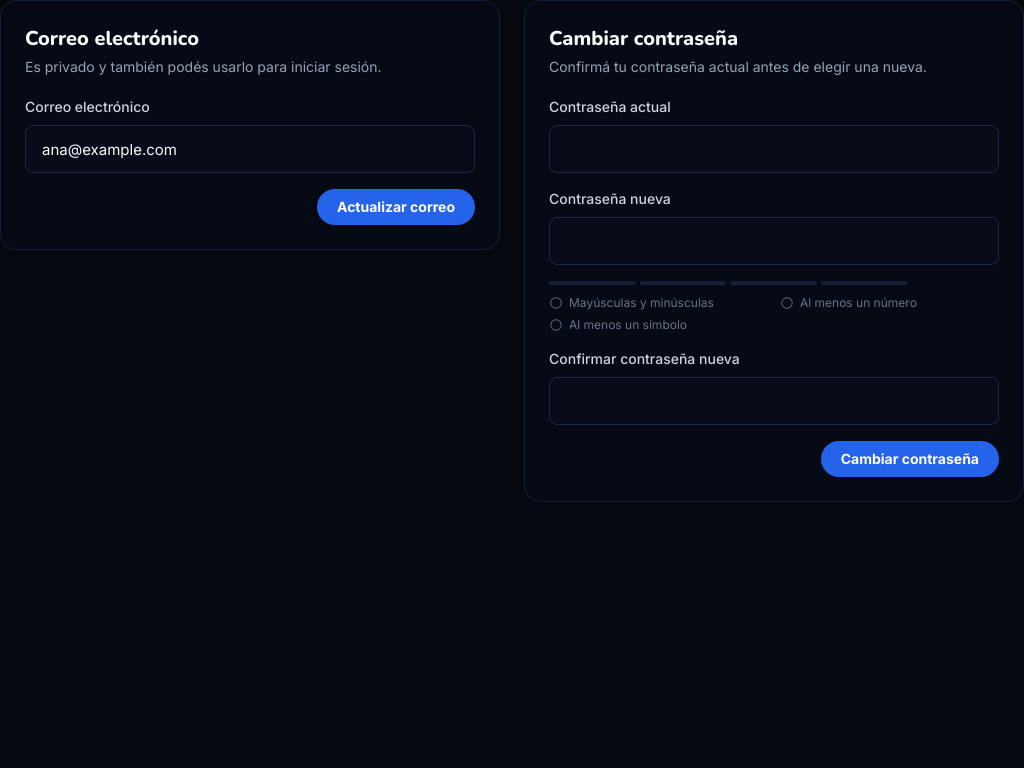
Test: AccountSettings › valida la confirmación antes de cambiar la contraseña
This screenshot has width=1024, height=768.
Type "ClaveActual123!" into the password field labelled "Contraseña actual".
click(774, 149); type("ClaveActual123!")  # box left=549, top=125, right=999, bottom=173
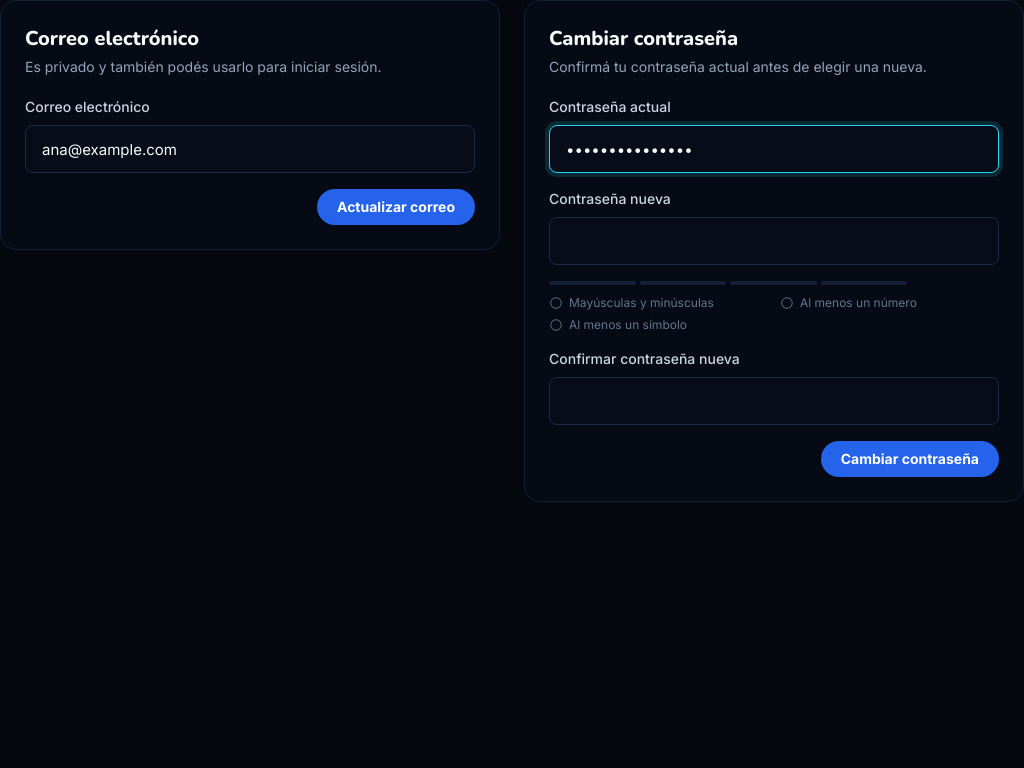
Type "NuevaClave456!" into the password field labelled "Contraseña nueva".
click(774, 241); type("NuevaClave456!")  # box left=549, top=217, right=999, bottom=265
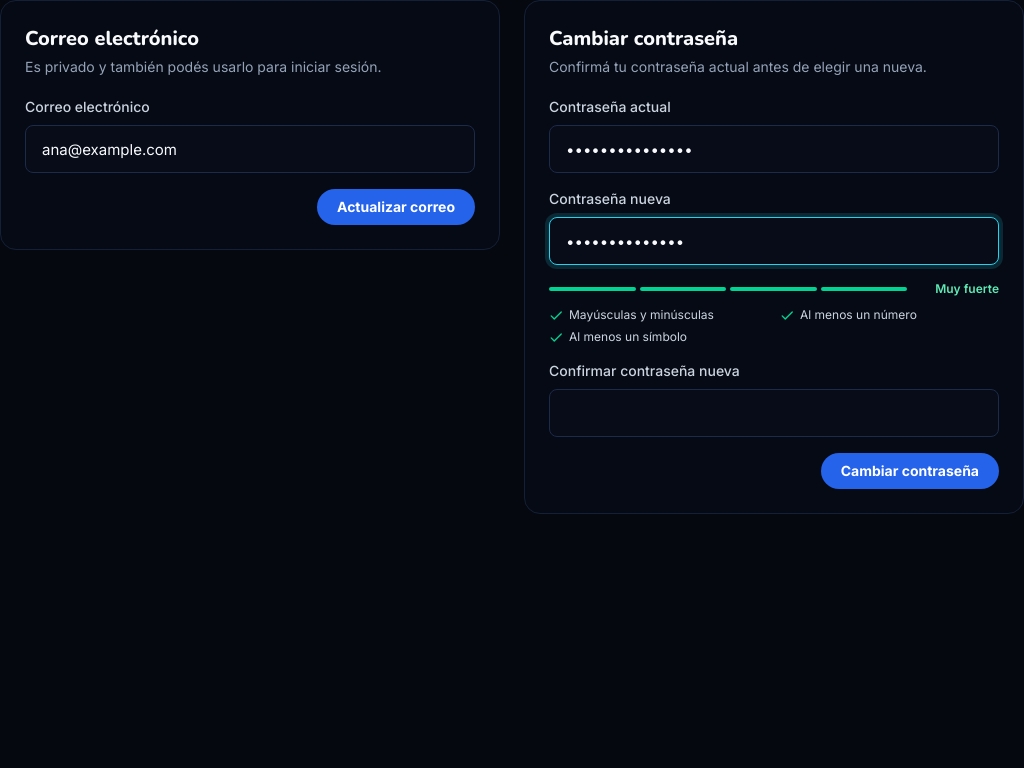
Type "NoCoincide456!" into the password field labelled "Confirmar contraseña nueva".
click(774, 413); type("NoCoincide456!")  # box left=549, top=389, right=999, bottom=437
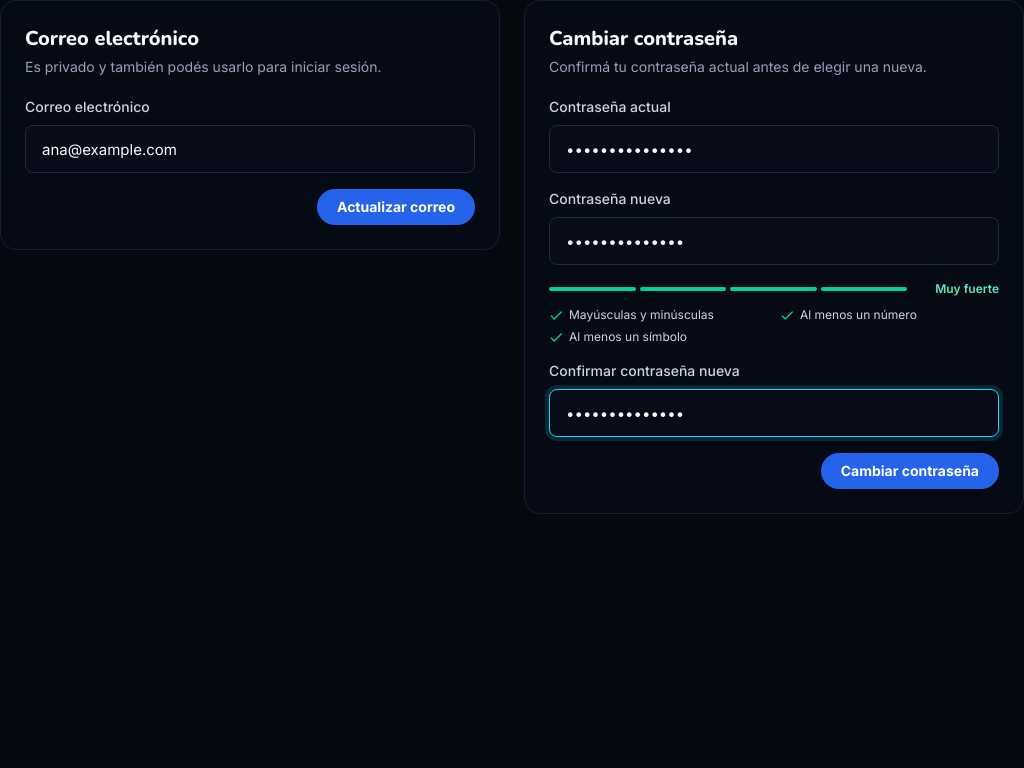
Click the button "Cambiar contraseña".
click(910, 471)  # box left=821, top=453, right=999, bottom=489
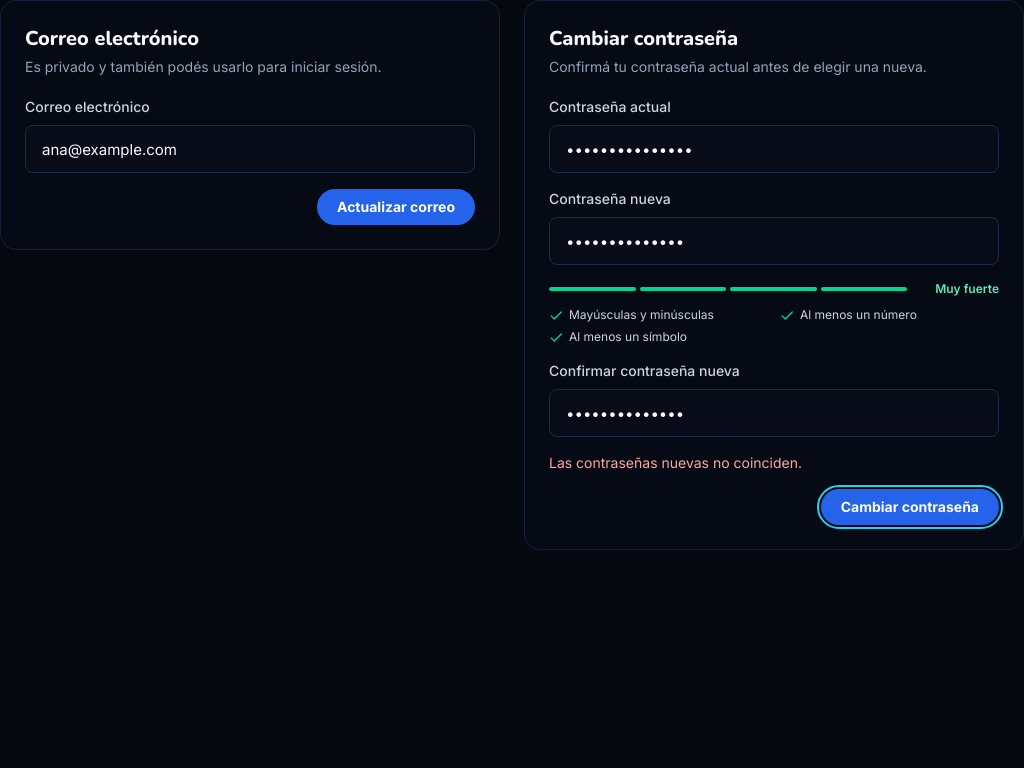
expect the message reads "Las contraseñas nuevas no coinciden.": met, box left=549, top=454, right=802, bottom=471
